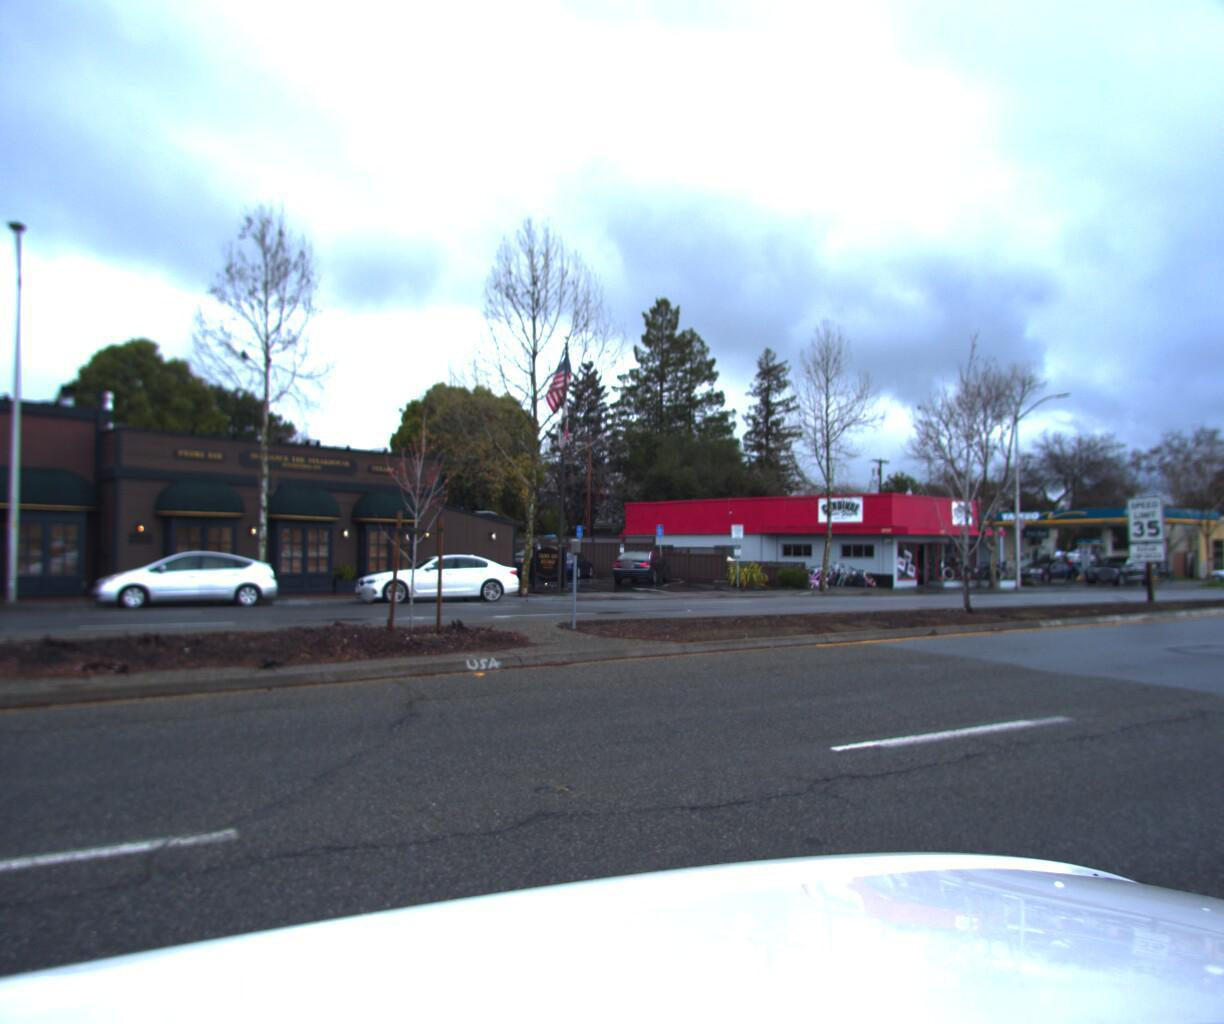bicycle: (852, 553, 881, 579), (977, 547, 1008, 569), (970, 547, 1001, 569), (802, 556, 829, 583), (832, 553, 860, 578), (842, 553, 870, 578), (822, 553, 850, 577)
car: (89, 550, 286, 623), (346, 549, 525, 613), (605, 543, 677, 586), (1072, 543, 1152, 575), (1005, 546, 1076, 579), (1198, 550, 1224, 571)
